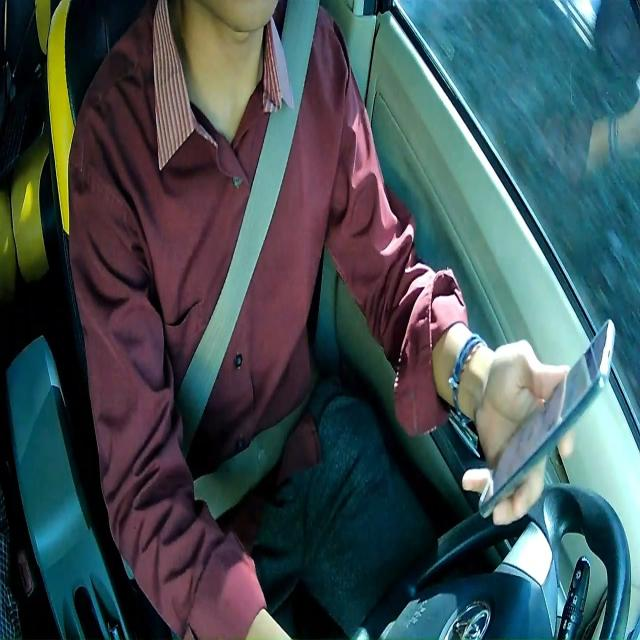phone: (477, 315, 616, 520)
